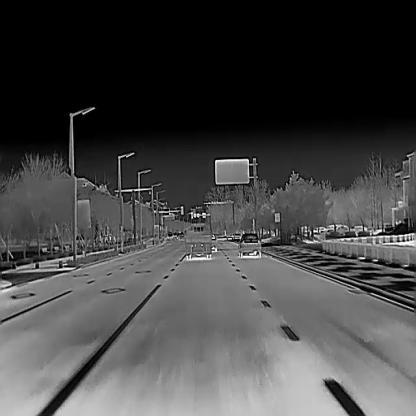car: (184, 222, 212, 260), (238, 232, 262, 257), (328, 224, 350, 233), (349, 225, 368, 233), (311, 226, 327, 233), (177, 234, 184, 240)
